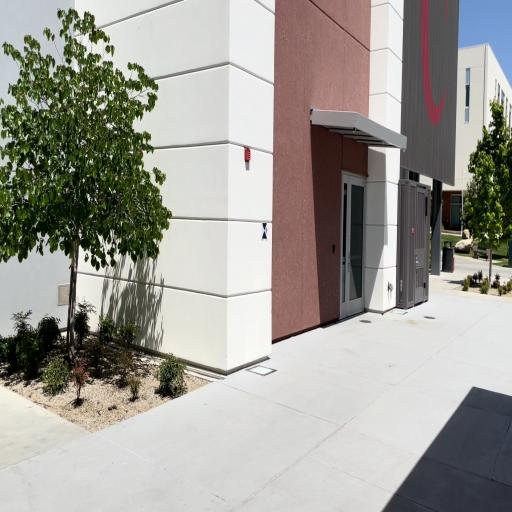target9: (262, 222, 268, 240)
